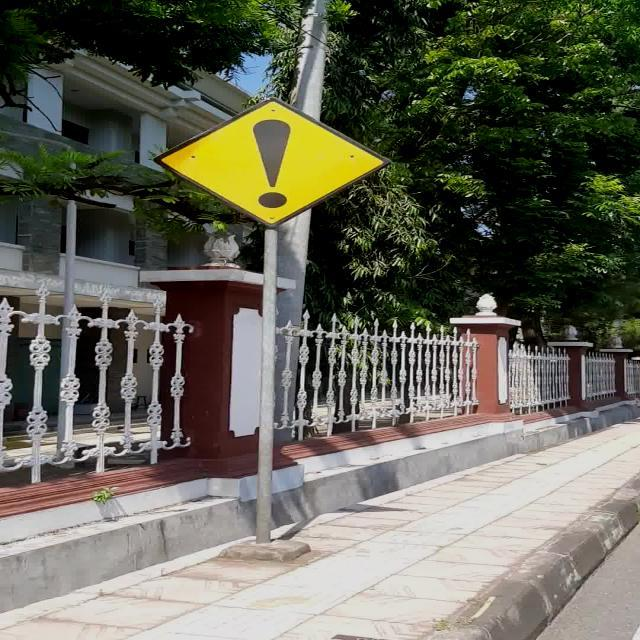Hati-Hati: (155, 98, 392, 228)
